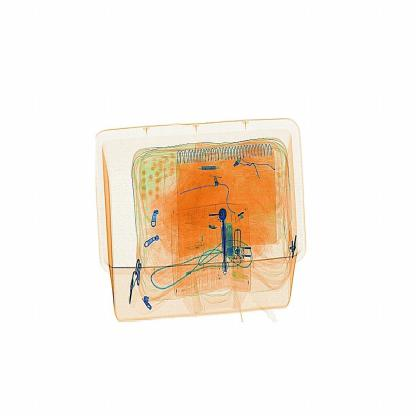knife: (212, 206, 240, 286)
